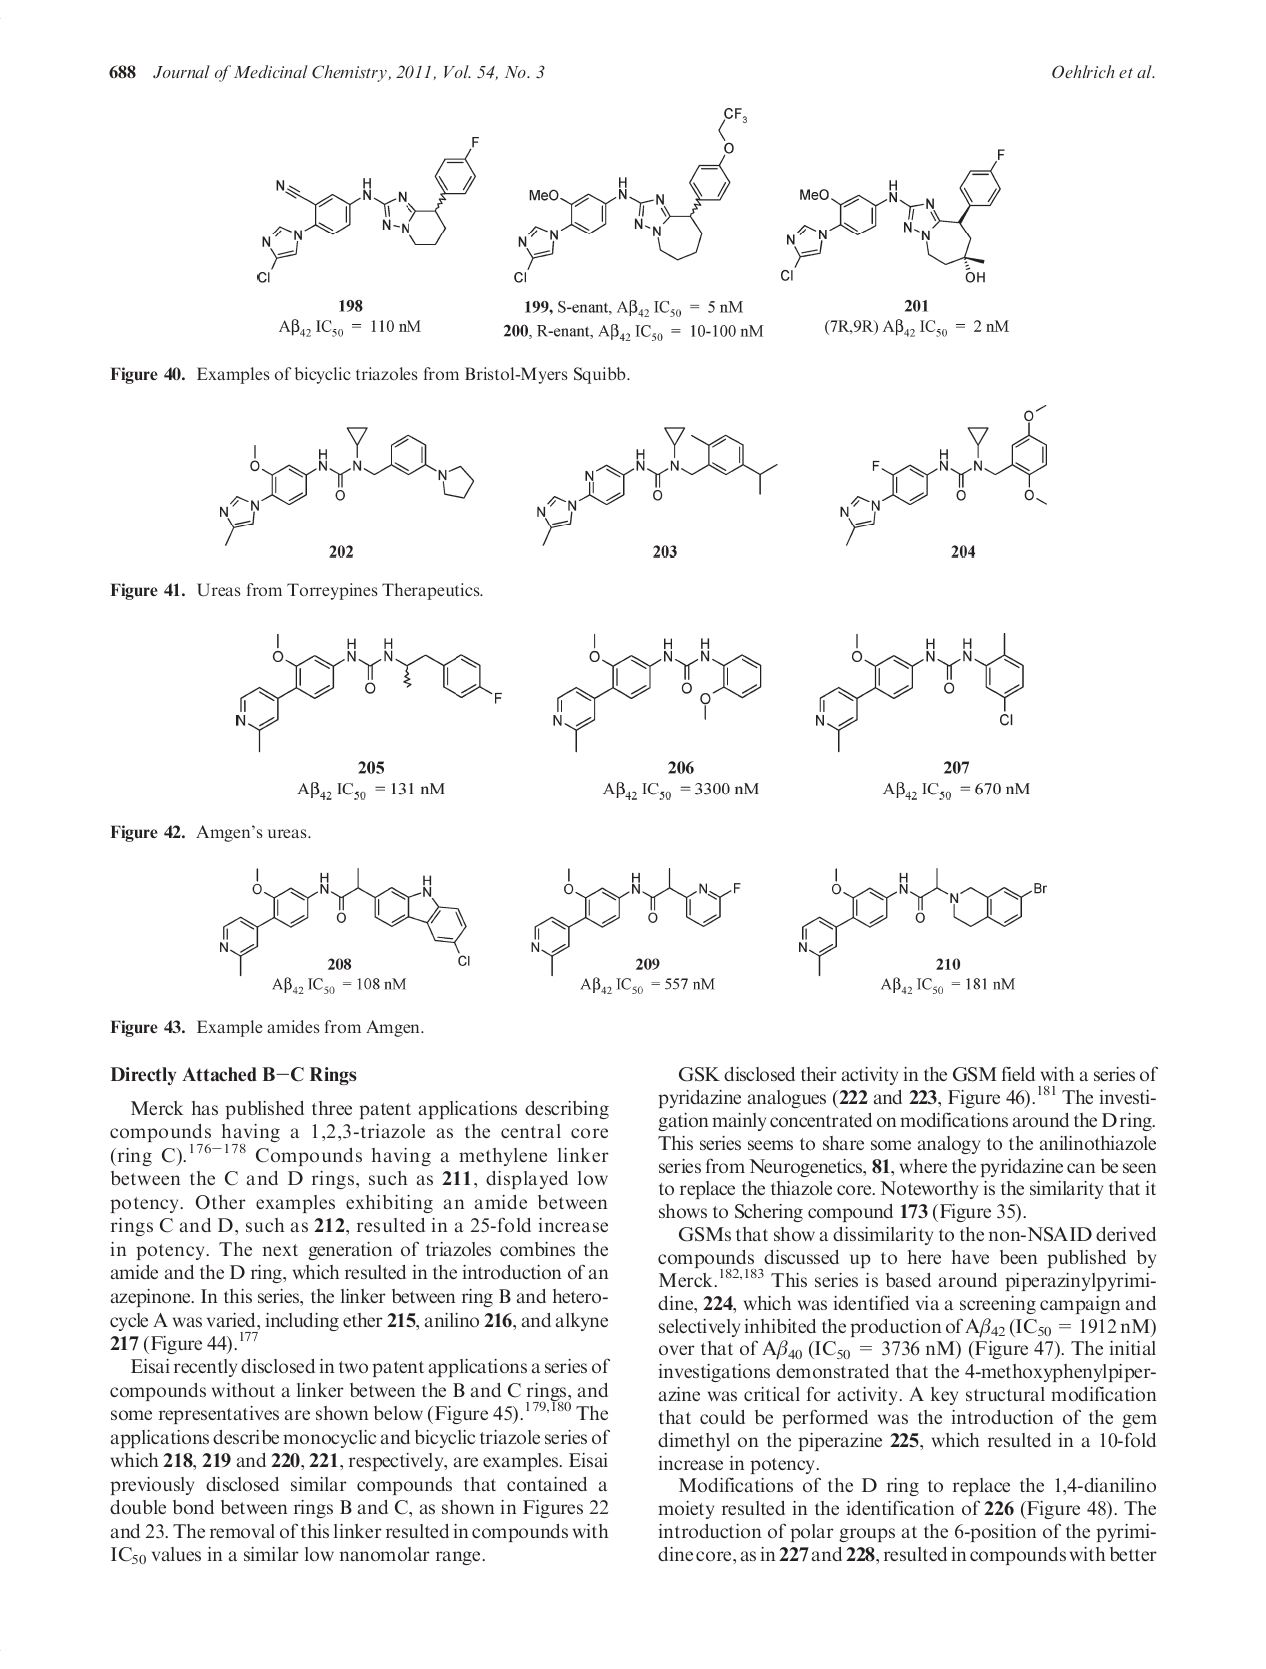exist_molecular: (509, 105, 747, 287), (231, 624, 504, 755), (247, 136, 483, 286), (211, 416, 476, 548), (777, 145, 1007, 294), (527, 418, 782, 551), (834, 398, 1055, 545), (215, 863, 476, 977), (795, 864, 1053, 977), (809, 628, 1032, 755), (549, 630, 770, 755), (529, 862, 742, 976)
